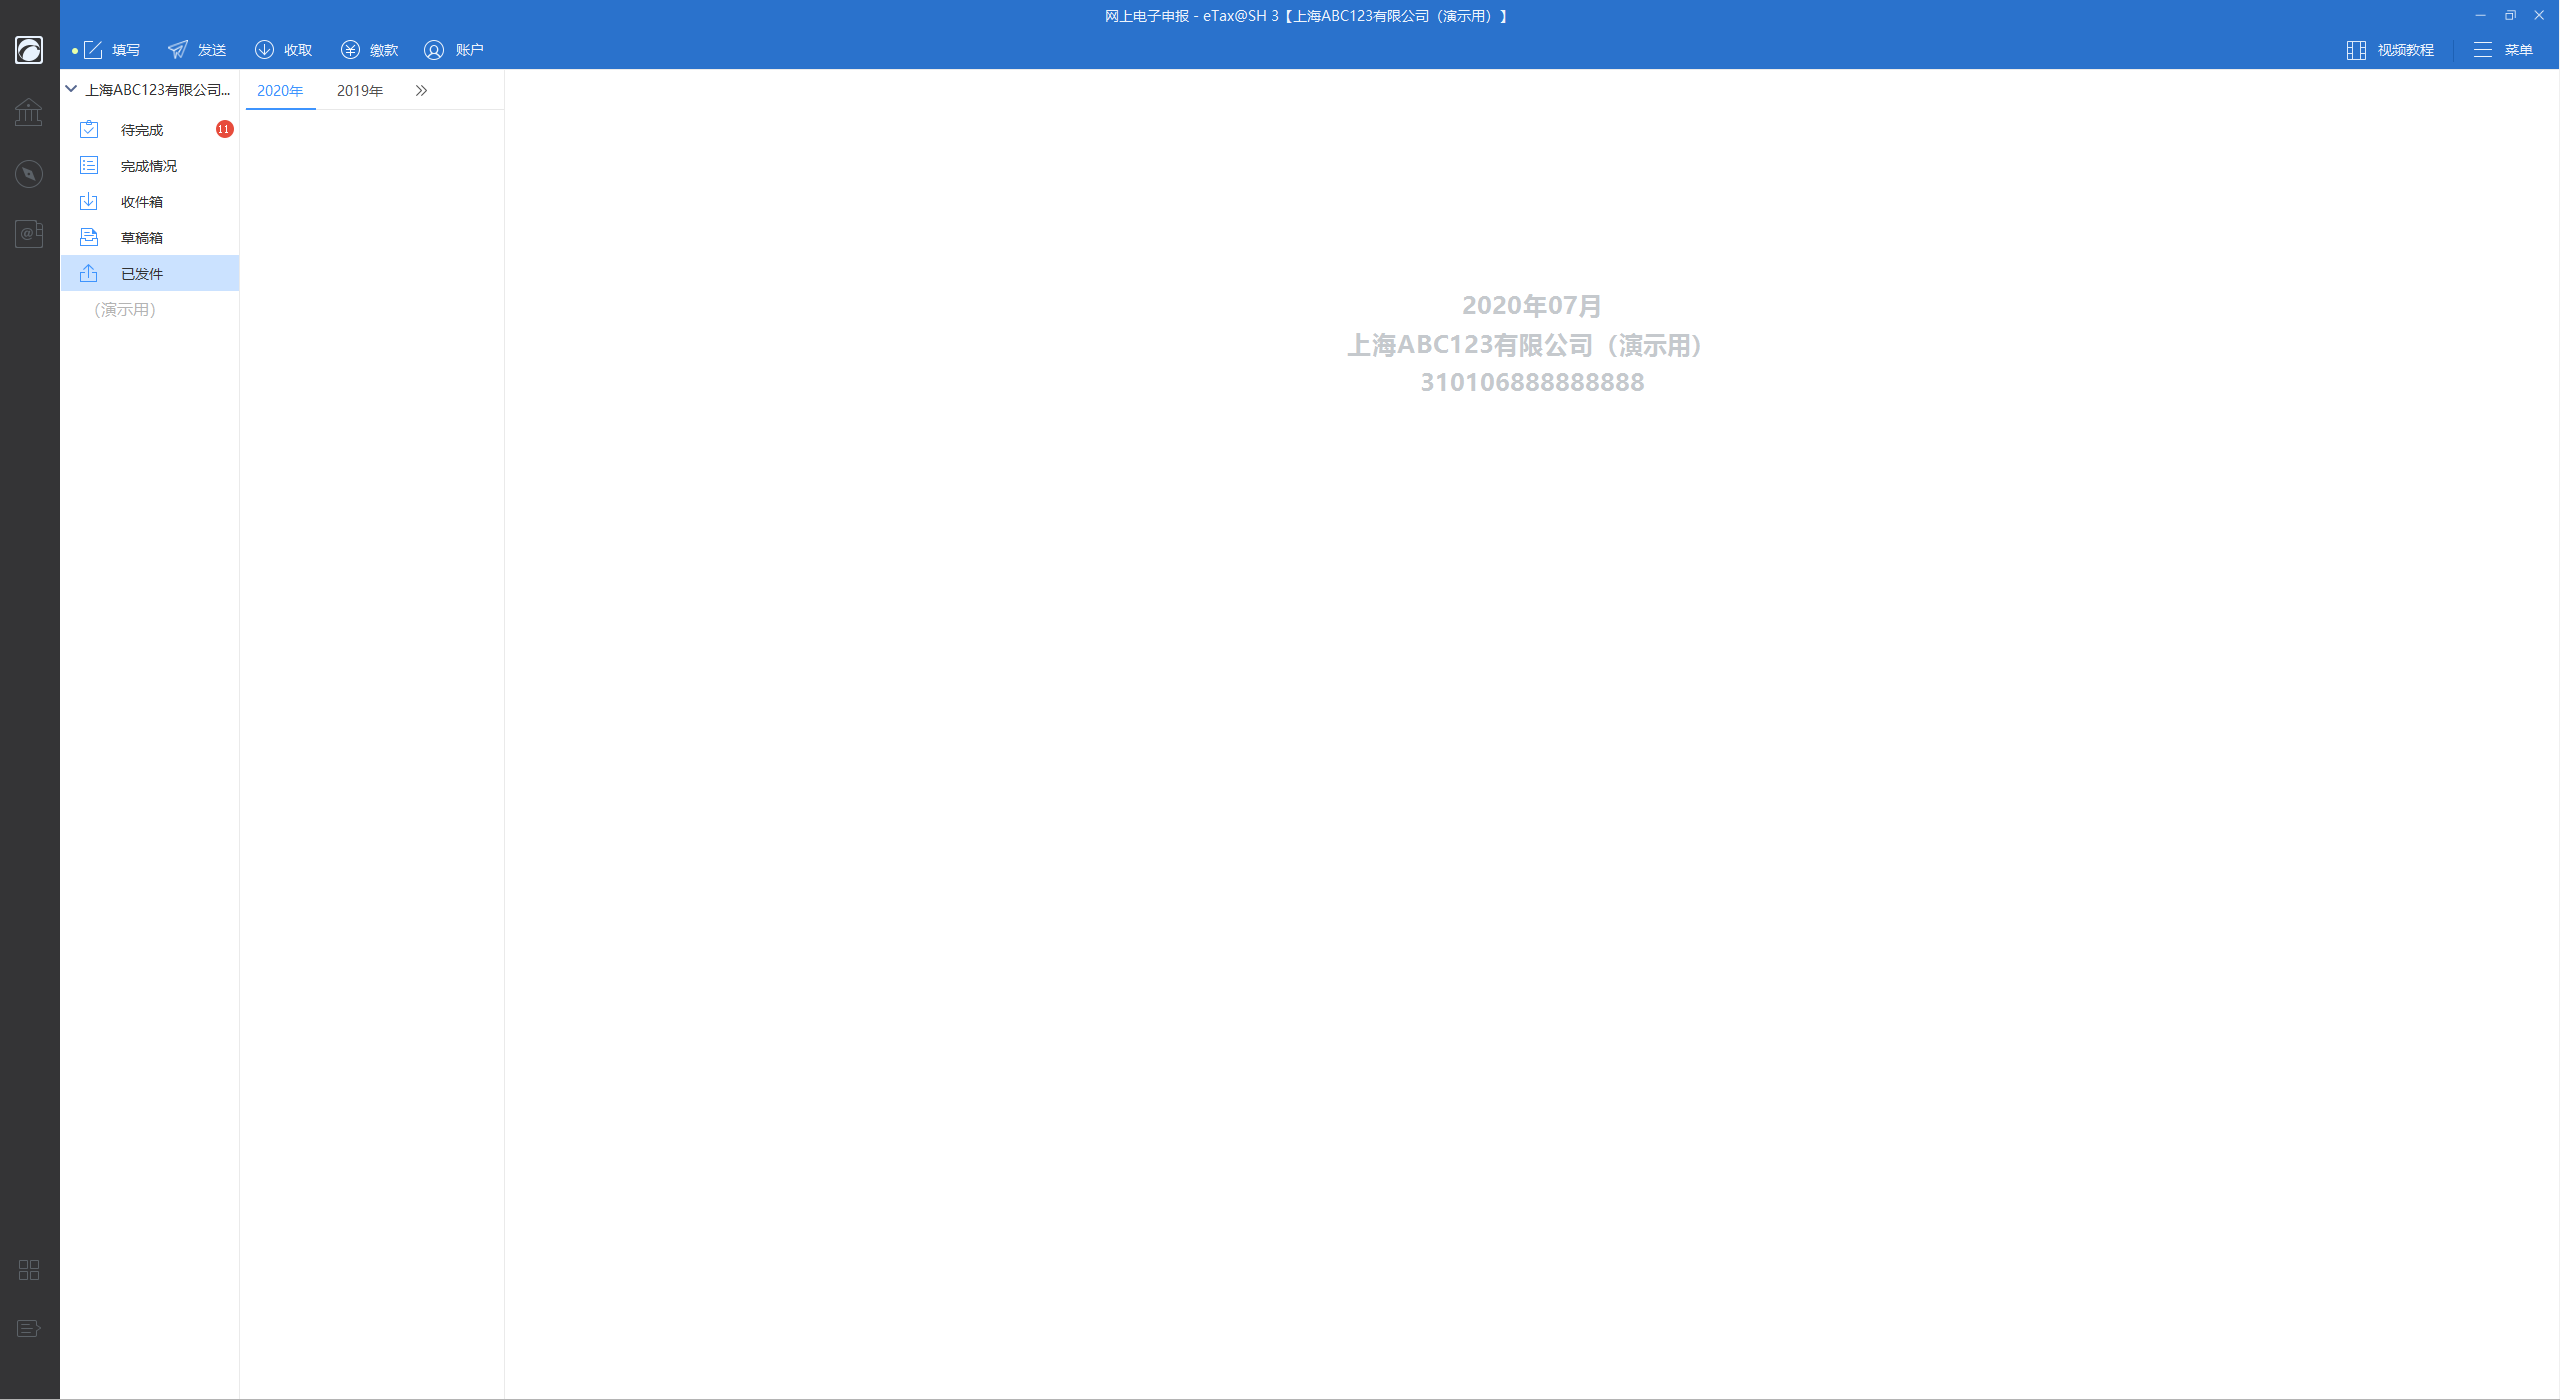character: (1352, 333, 1707, 357), (1103, 2, 1508, 22), (1462, 286, 1610, 321), (1422, 371, 1646, 391), (88, 84, 234, 97), (91, 298, 157, 319), (117, 155, 184, 172), (2381, 40, 2436, 59), (112, 267, 169, 284), (121, 191, 167, 207), (252, 84, 307, 97), (119, 122, 165, 136), (121, 231, 167, 245), (333, 84, 384, 97), (109, 41, 141, 59), (197, 40, 229, 55), (452, 45, 488, 59), (2505, 45, 2538, 59), (286, 45, 314, 59), (371, 45, 396, 59)
icon: (14, 34, 45, 64), (14, 219, 45, 247), (14, 97, 41, 126), (16, 159, 43, 188), (165, 36, 190, 59), (422, 40, 445, 60), (17, 1259, 40, 1279), (16, 1319, 41, 1336), (253, 40, 274, 59), (340, 40, 360, 59), (78, 191, 98, 210), (83, 40, 103, 59), (2346, 40, 2365, 60), (79, 119, 98, 138), (79, 228, 98, 247), (79, 155, 98, 174), (78, 264, 97, 283), (215, 119, 234, 138), (2474, 40, 2493, 59), (2472, 7, 2488, 22), (2531, 7, 2546, 22), (64, 79, 78, 95), (2503, 7, 2519, 21), (414, 83, 428, 97)
